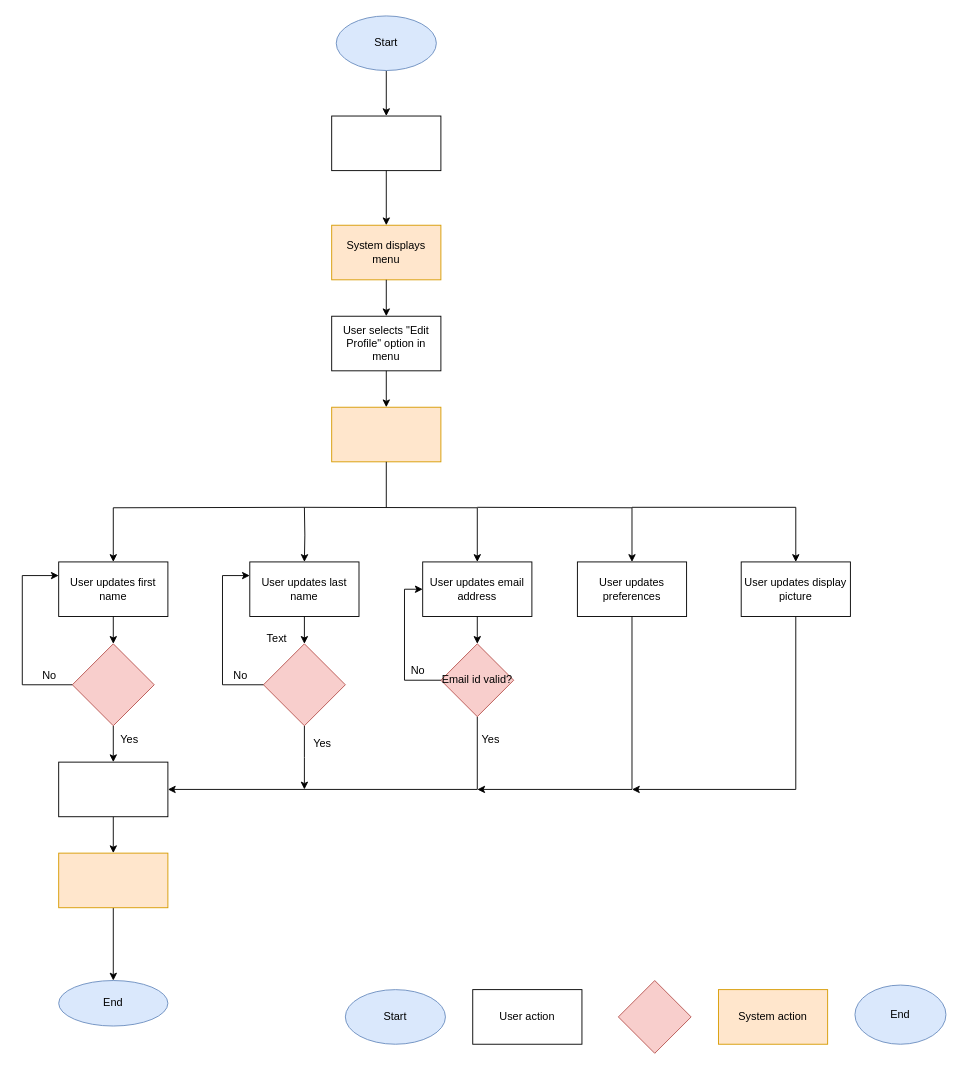
Image size: 962x1069. Some labels were removed from this diagram. Here are the shapes that lost their labels. From the top down, the centre of each, then its label:
point (386, 143): User clicks on Navigation bar
point (386, 434): System displays "Edit Profile" page
point (112, 684): First name is valid ?
point (304, 684): Last name is valid ?
point (113, 789): User clicks on "Update" button
point (113, 880): User Profile updated successfully
point (654, 1016): Condition
